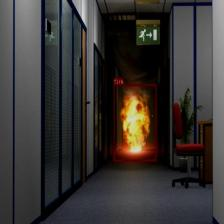fire: (113, 84, 156, 161)
